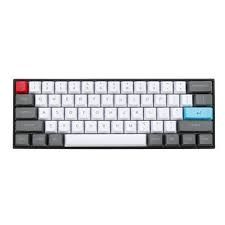keyboard: (10, 80, 219, 150)
